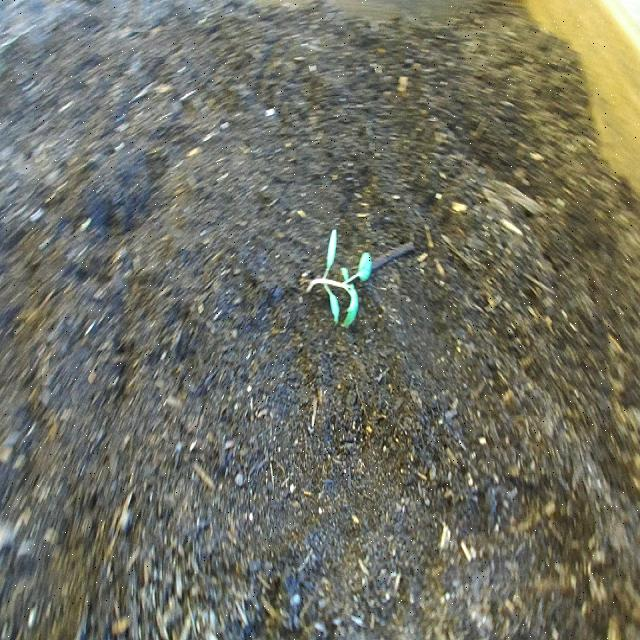Healthy: (302, 225, 376, 338)
